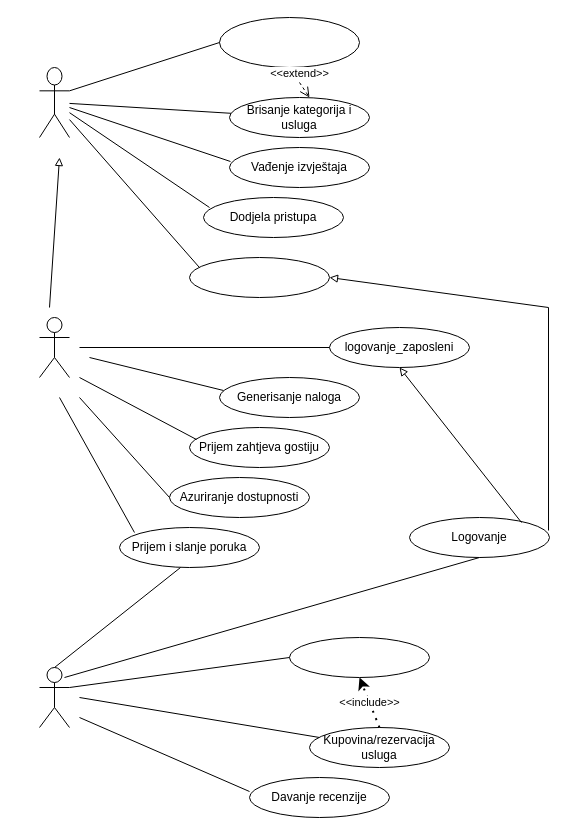
This 575x835 diagram has some shape labels left out. Here are the shapes that lost their labels. From the top down, the centre of each, then its label:
point (289, 42): Dodavanje kategorija i usluga
point (54, 102): Administracija
point (259, 277): Logovanje_admin
point (54, 347): Osoblje
point (359, 657): Pregled usluga
point (54, 697): Gosti
